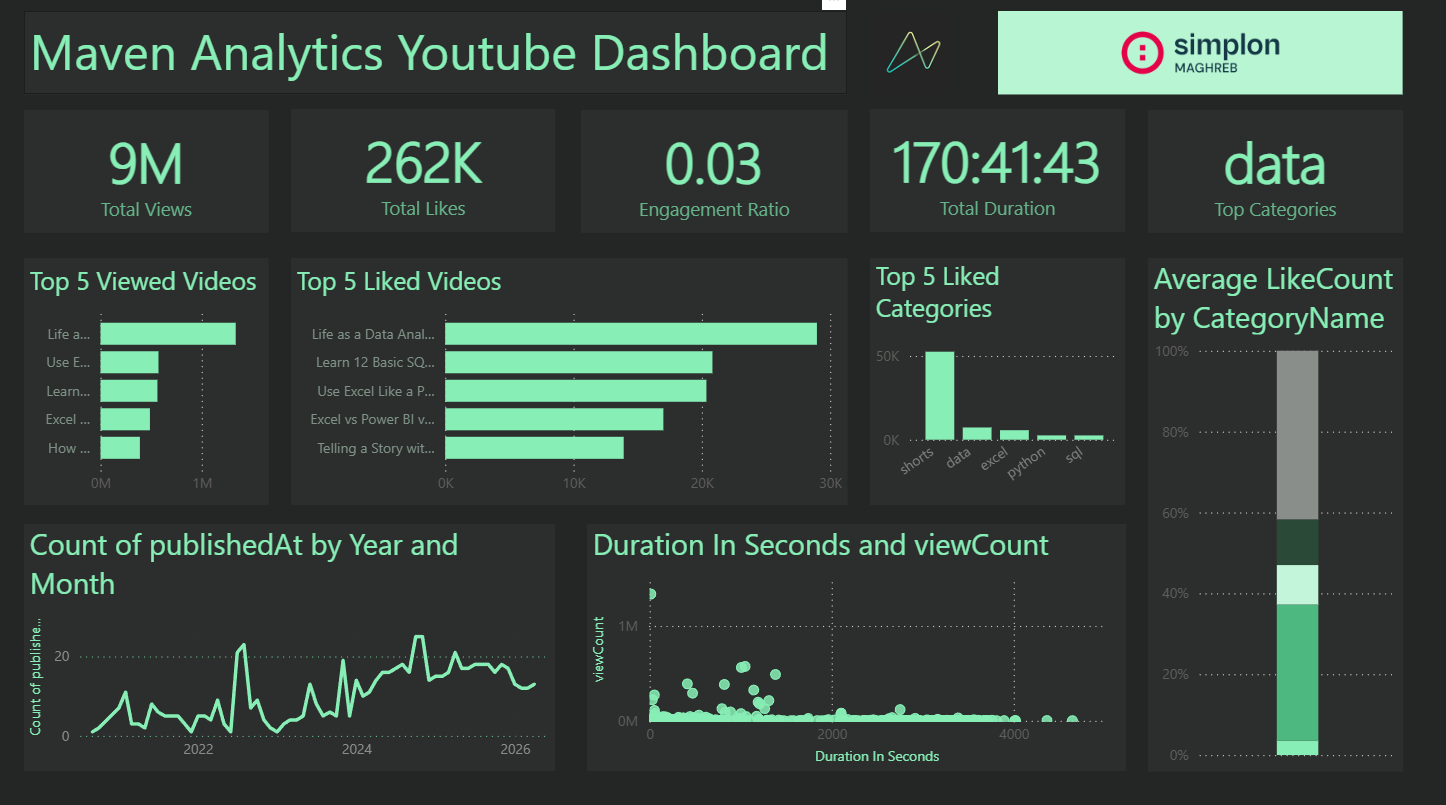

What the dashboard file says about the page in this screenshot:
{"tool":"powerbi","page":{"name":"Page 1","canvas":[1280,720],"ordinal":0},"visuals":[{"type":"textbox","box":[35.5,17.3,710,71.8],"z":0},{"type":"card","fields":{"Values":["_Measure_Table.Total Views"]},"box":[35.5,102.7,210.9,106.4],"z":1000},{"type":"card","fields":{"Values":["_Measure_Table.Total Likes"]},"box":[265.5,101.8,228.2,106.4],"z":2000},{"type":"card","fields":{"Values":["_Measure_Table.Global Engagement Ratio"]},"box":[515.5,102.7,230,106.4],"z":3000},{"type":"card","fields":{"Values":["_Measure_Table.Total Duration"]},"box":[765.5,101.8,220,106.4],"z":4000},{"type":"clusteredBarChart","title":"Top 5 Viewed Videos","fields":{"Category":["FactTable.title"],"Y":["_Measure_Table.Total Views"]},"box":[35.5,230,210.9,212.7],"z":5000},{"type":"card","fields":{"Values":["_Measure_Table.Top Categories"]},"box":[1004.5,102.7,220,106.4],"z":6000},{"type":"lineChart","fields":{"Y":["CountNonNull(FactTable.publishedAt)"],"Category":["FactTable.publishedAt.Variation.Date Hierarchy.Year","FactTable.publishedAt.Variation.Date Hierarchy.Month","FactTable.publishedAt.Variation.Date Hierarchy.Day"]},"box":[35.5,460,458.2,212.7],"z":7000},{"type":"clusteredBarChart","title":"Top 5 Liked Videos","fields":{"Category":["FactTable.title"],"Y":["_Measure_Table.Total Likes"]},"box":[265.5,230,480,212.7],"z":8000},{"type":"clusteredColumnChart","title":"Top 5 Liked Categories","fields":{"Category":["TagDimTable.title"],"Y":["_Measure_Table.Total Likes"]},"box":[765.5,230,220,212.7],"z":9000},{"type":"hundredPercentStackedColumnChart","fields":{"Y":["_Measure_Table.Average LikeCount"],"Series":["CategoryDimTable.CategoryName"]},"box":[1004.5,230,220,442.7],"z":10000},{"type":"scatterChart","fields":{"Y":["FactTable.viewCount"],"X":["FactTable.Duration In Seconds"]},"box":[520.9,460,464.5,212.7],"z":11000},{"type":"image","box":[765.5,17.3,73.6,71.8],"z":12000},{"type":"image","box":[875.5,17.3,349.1,71.8],"z":13000}]}

Visuals, with their boxes in screenshot pixels (x1, y1, x2, y2), scaled from the page's 1280x720 canvas onto the 1446x805 screenshot:
textbox: l=40, t=19, r=842, b=100
card - _Measure_Table.Total Views: l=40, t=115, r=278, b=234
card - _Measure_Table.Total Likes: l=300, t=114, r=558, b=233
card - _Measure_Table.Global Engagement Ratio: l=582, t=115, r=842, b=234
card - _Measure_Table.Total Duration: l=865, t=114, r=1113, b=233
"Top 5 Viewed Videos" clusteredBarChart: l=40, t=257, r=278, b=495
card - _Measure_Table.Top Categories: l=1135, t=115, r=1383, b=234
lineChart - CountNonNull(FactTable.publishedAt) x FactTable.publishedAt.Variation.Date Hierarchy.Year: l=40, t=514, r=558, b=752
"Top 5 Liked Videos" clusteredBarChart: l=300, t=257, r=842, b=495
"Top 5 Liked Categories" clusteredColumnChart: l=865, t=257, r=1113, b=495
hundredPercentStackedColumnChart - _Measure_Table.Average LikeCount x CategoryDimTable.CategoryName: l=1135, t=257, r=1383, b=752
scatterChart - FactTable.viewCount x FactTable.Duration In Seconds: l=588, t=514, r=1113, b=752
image: l=865, t=19, r=948, b=100
image: l=989, t=19, r=1383, b=100
